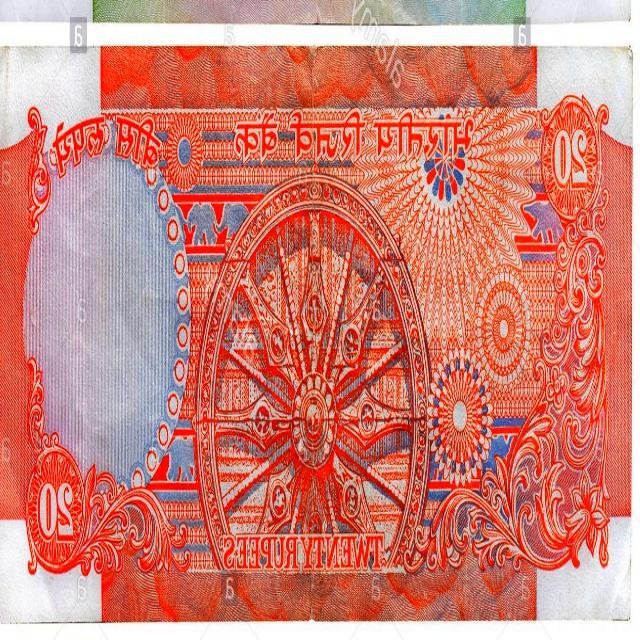20rs: (5, 40, 637, 630)
